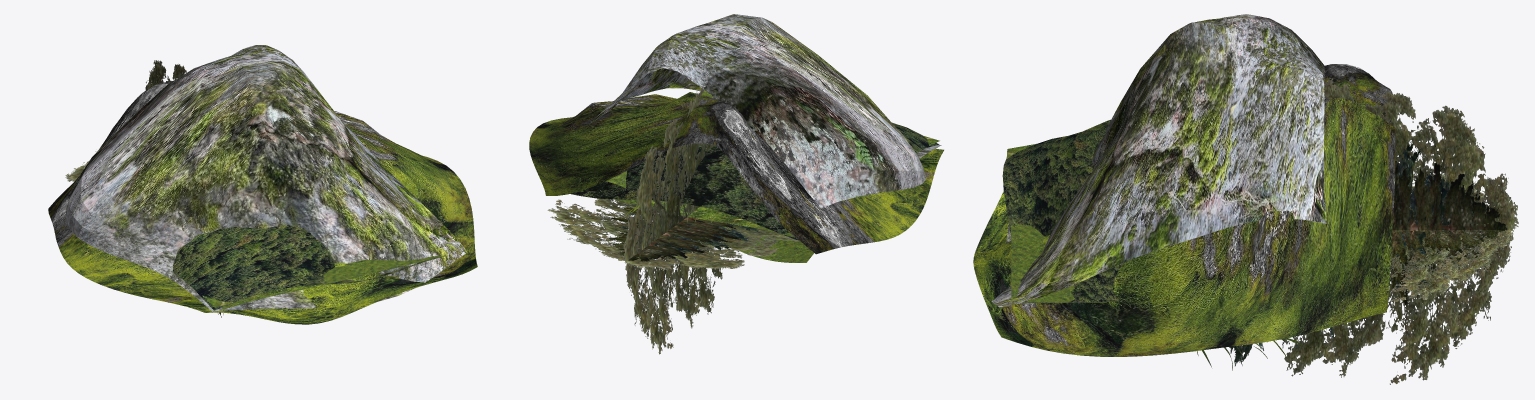
File: landscape_forest__mountains.glb
The picture shows the model from 3 angles, left to right: view 1: azimuth 30°, elevation 25°; view 2: azimuth 150°, elevation 25°; view 3: azimuth 270°, elevation 25°; orthographic projection. The views are drawn at different scales.
Parts seen in each view (by area): view 1: Plane.009_Material.009_0, Plane.007_Material.008_0, Plane.006_Material.007_0, Plane_Material.001_0, Plane.005_Material.006_0, Plane.008_Material.001_0; view 2: Plane.009_Material.009_0, Plane.007_Material.008_0, Plane.005_Material.006_0, Plane.006_Material.007_0, Plane.003_Material.004_0, Plane_Material.001_0, Plane.008_Material.001_0, Plane.004_Material.005_0; view 3: Plane.009_Material.009_0, Plane.007_Material.008_0, Plane.005_Material.006_0, Plane.006_Material.007_0, Plane.003_Material.004_0, Plane.004_Material.005_0, Plane_Material.001_0.
Part boxes in pixels (x1,y1,x2,y2): Plane.009_Material.009_0: [65, 45, 467, 311]; Plane.007_Material.008_0: [48, 81, 477, 324]; Plane.006_Material.007_0: [172, 225, 444, 310]; Plane_Material.001_0: [214, 255, 445, 311]; Plane.005_Material.006_0: [65, 60, 223, 317]; Plane.008_Material.001_0: [202, 257, 430, 307]; Plane.009_Material.009_0: [590, 14, 941, 208]; Plane.007_Material.008_0: [529, 92, 943, 254]; Plane.005_Material.006_0: [547, 88, 799, 354]; Plane.006_Material.007_0: [570, 122, 939, 240]; Plane.003_Material.004_0: [609, 203, 740, 261]; Plane_Material.001_0: [605, 92, 929, 262]; Plane.008_Material.001_0: [581, 93, 939, 237]; Plane.004_Material.005_0: [617, 203, 760, 259]; Plane.009_Material.009_0: [992, 14, 1326, 307]; Plane.007_Material.008_0: [973, 64, 1395, 356]; Plane.005_Material.006_0: [1267, 77, 1518, 384]; Plane.006_Material.007_0: [1002, 119, 1123, 303]; Plane.003_Material.004_0: [1390, 159, 1507, 306]; Plane.004_Material.005_0: [1229, 140, 1491, 366]; Plane_Material.001_0: [1011, 224, 1106, 302].
Size of the model in its own units: 323 by 229 by 318.
9 materials, 9 textured.
